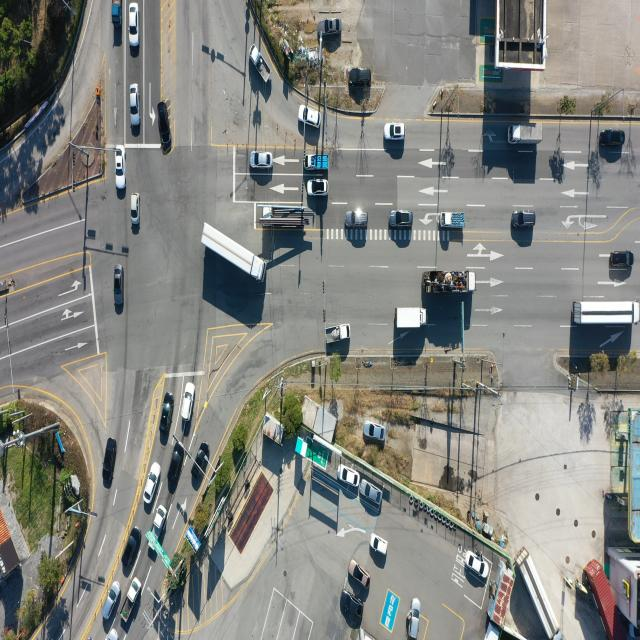car: (121, 527, 142, 571), (249, 44, 271, 83), (169, 444, 185, 492), (102, 580, 121, 620), (143, 462, 160, 504), (349, 557, 369, 592), (103, 438, 117, 487), (157, 102, 170, 154), (192, 446, 211, 480), (342, 588, 362, 620), (468, 552, 490, 579), (299, 104, 322, 129), (409, 598, 422, 640), (361, 481, 383, 505), (181, 382, 194, 421), (338, 464, 361, 486), (130, 4, 141, 49), (162, 398, 174, 438), (600, 130, 625, 149), (363, 421, 385, 441), (116, 145, 126, 189), (612, 250, 636, 268), (512, 211, 537, 228), (346, 209, 368, 228), (389, 209, 412, 227), (307, 178, 329, 196), (114, 266, 123, 310), (251, 151, 274, 168), (385, 124, 406, 142), (131, 86, 140, 128), (351, 67, 372, 85), (372, 534, 388, 555), (322, 19, 341, 36), (132, 195, 140, 226)
medium_truck: (201, 223, 265, 288), (519, 545, 562, 637), (577, 298, 640, 326), (262, 204, 310, 230), (428, 271, 479, 295), (394, 306, 426, 331), (506, 125, 541, 146)
small_truck: (146, 505, 168, 556), (125, 576, 143, 618), (328, 326, 352, 346), (440, 211, 465, 229), (304, 152, 328, 170), (110, 0, 121, 25)
